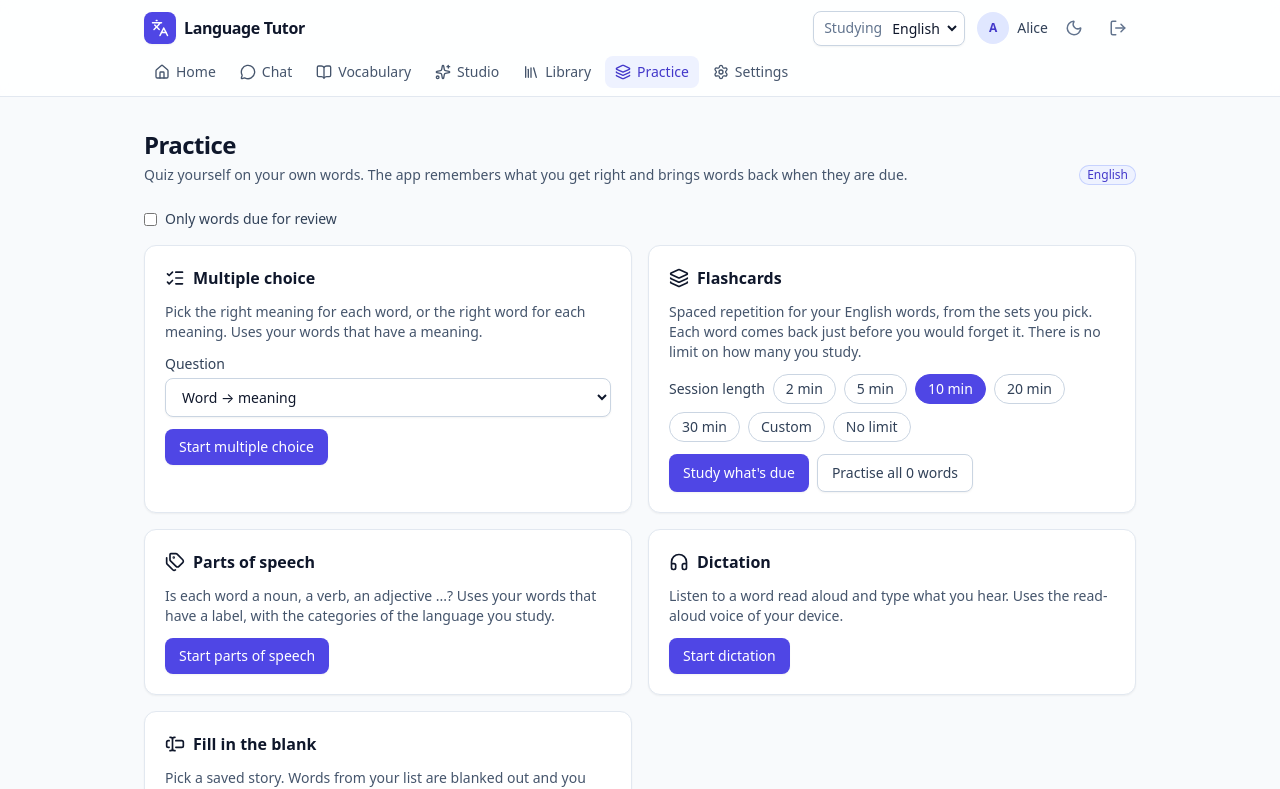
Test: parts-of-speech practice › asks only for due words when 'only due' is ticked
Click the checkbox labelled "Only words due for review" at (150, 219), box [144,212,157,226]
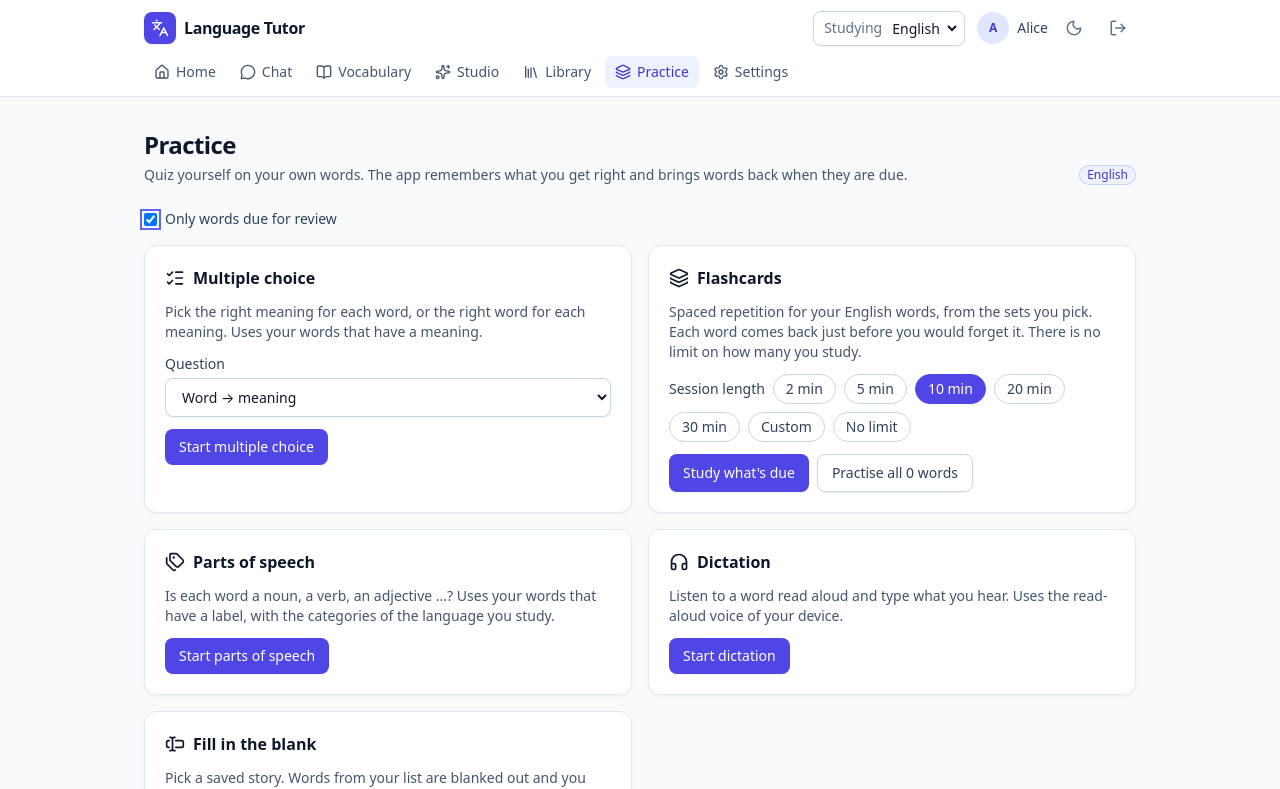
Click the button "Start parts of speech" at (247, 656), box [165,638,329,674]
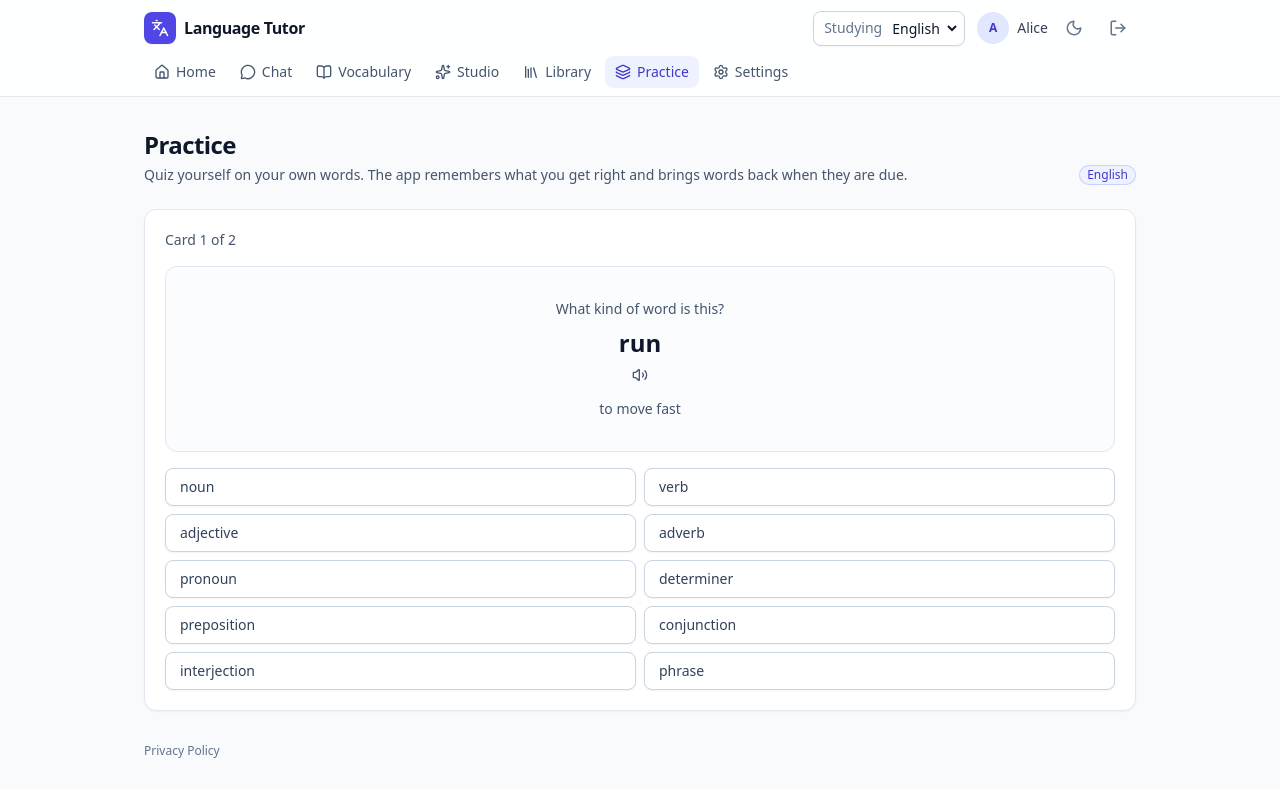
Expected: the text "run" is shown, [619,326,661,359]
